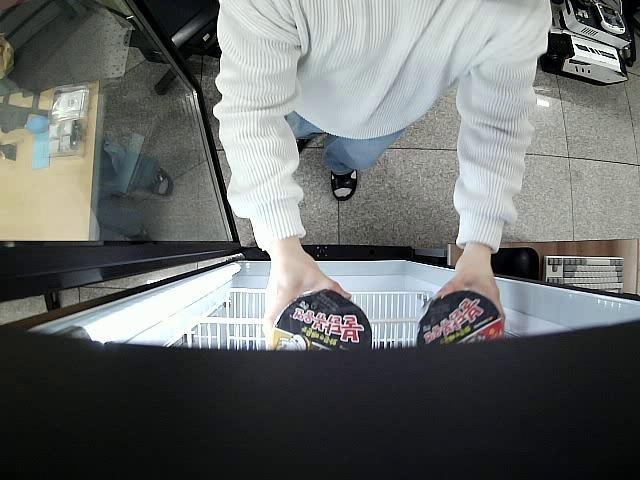07_buldak_L: (266, 290, 374, 356), (416, 291, 504, 347)
